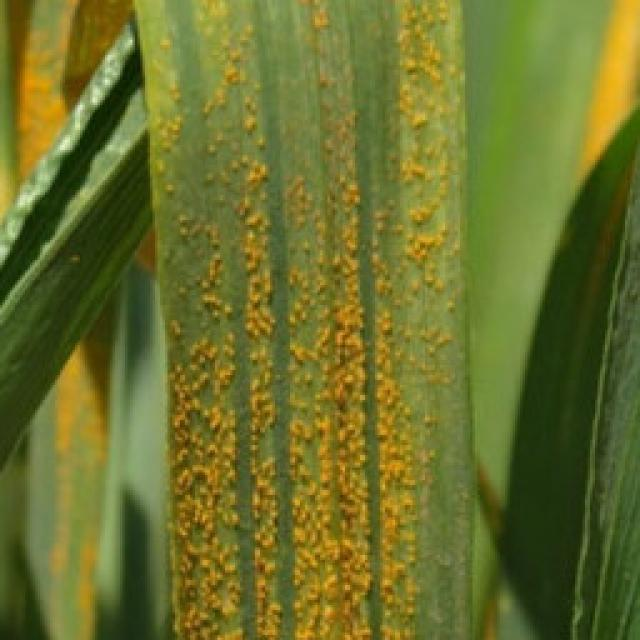wheat-yellowrust: (279, 0, 374, 640), (147, 40, 246, 640), (374, 0, 465, 639), (199, 2, 289, 640)
